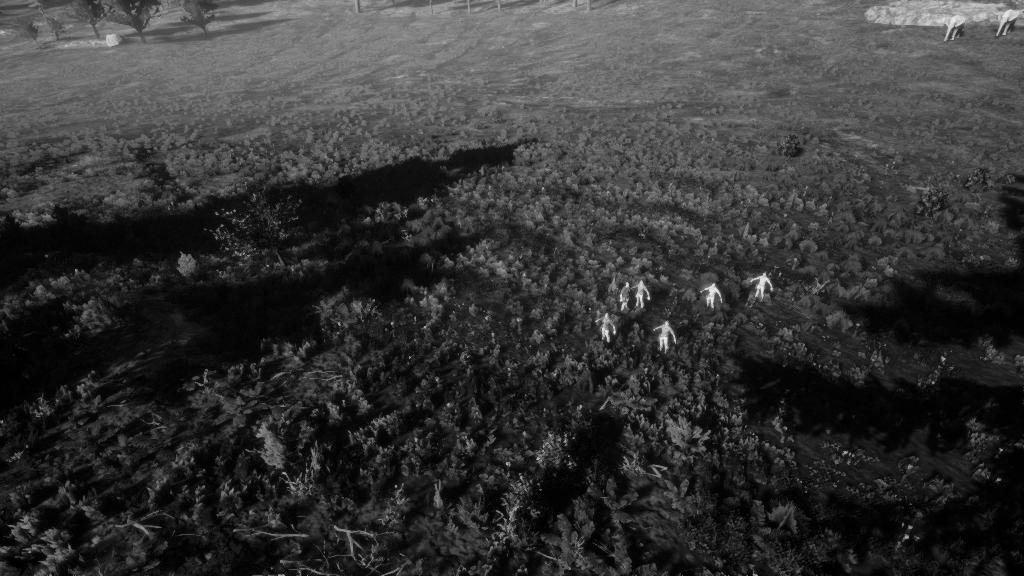elephant: (989, 1, 1023, 48), (936, 7, 969, 52)
human: (647, 316, 691, 369), (614, 268, 661, 317), (687, 271, 730, 316), (745, 262, 783, 308), (591, 307, 622, 356)
